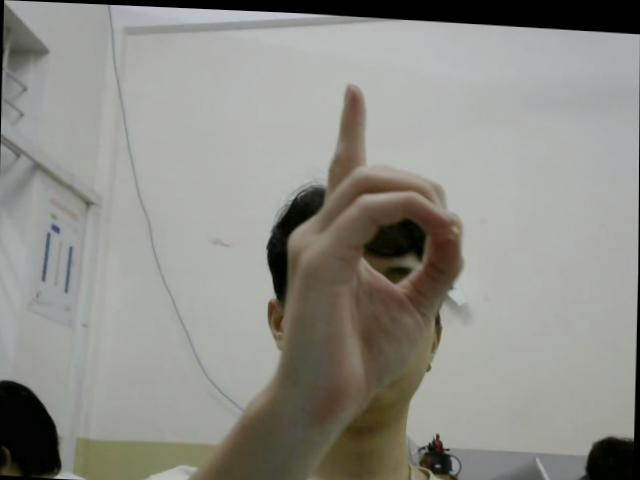D: (281, 76, 470, 410)
